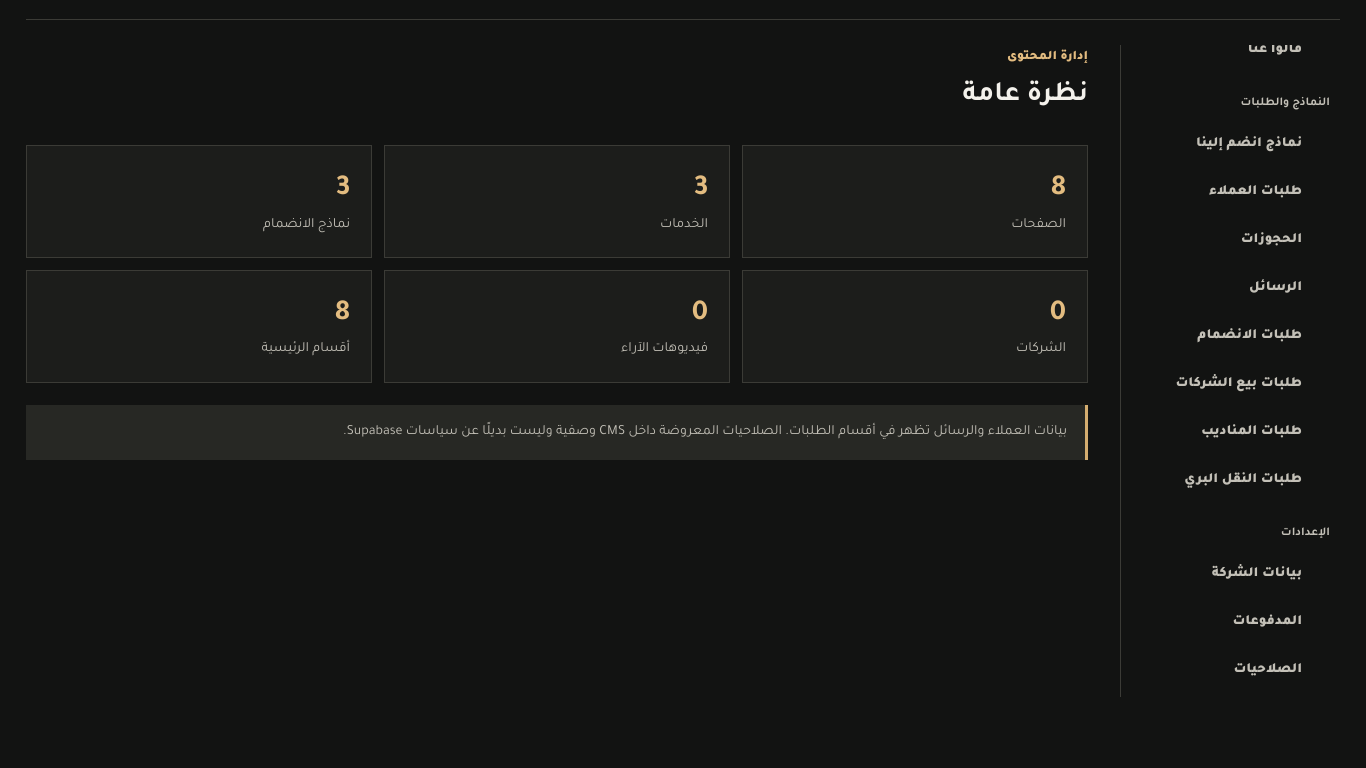
it: form submissions in the dashboard › shows a missing-table error instead of an empty request list and keeps service requests usable
(page scrolled)
Click the button "طلبات بيع الشركات".
click(1239, 384)  # box 1138,362 -> 1340,406
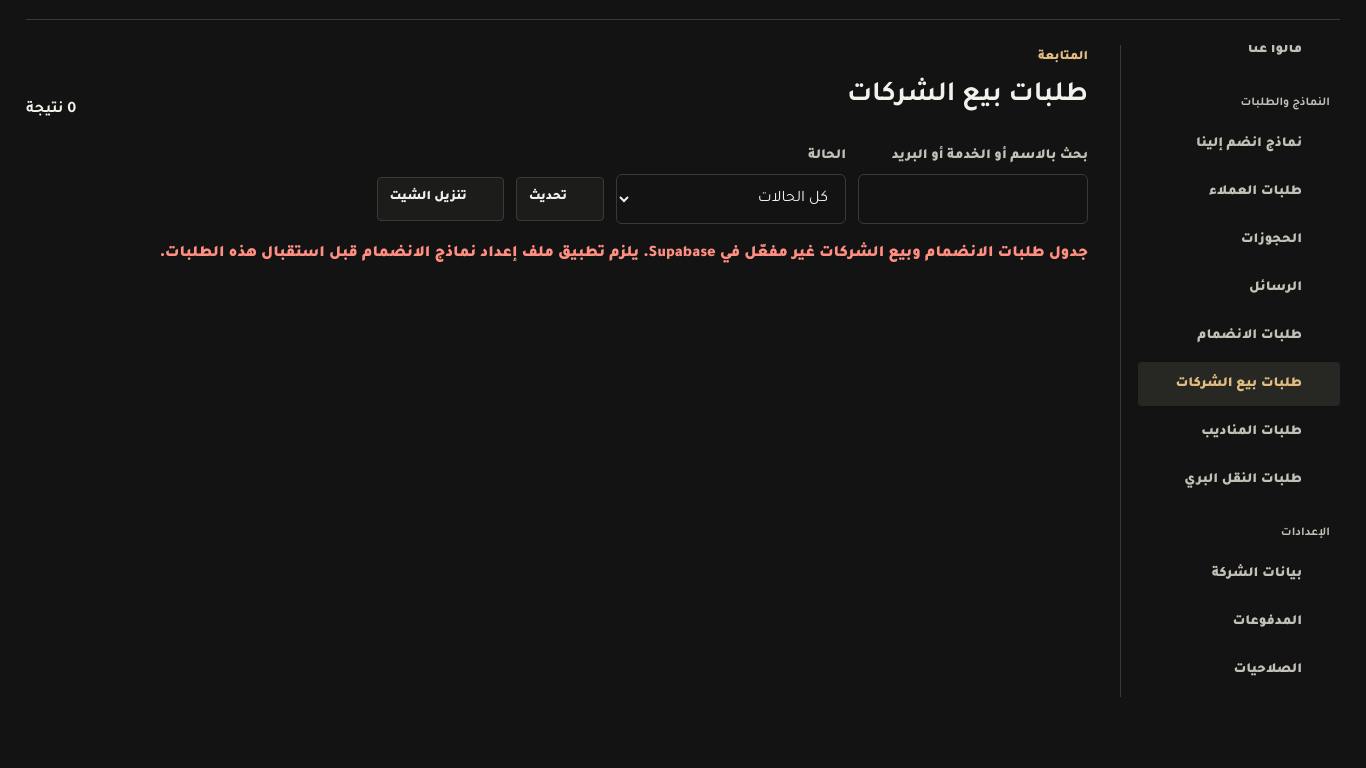
Check: the message shows "غير مفعّل", box 160,246 -> 1088,262
Click the button "طلبات العملاء".
click(1239, 192)  # box 1138,170 -> 1340,214
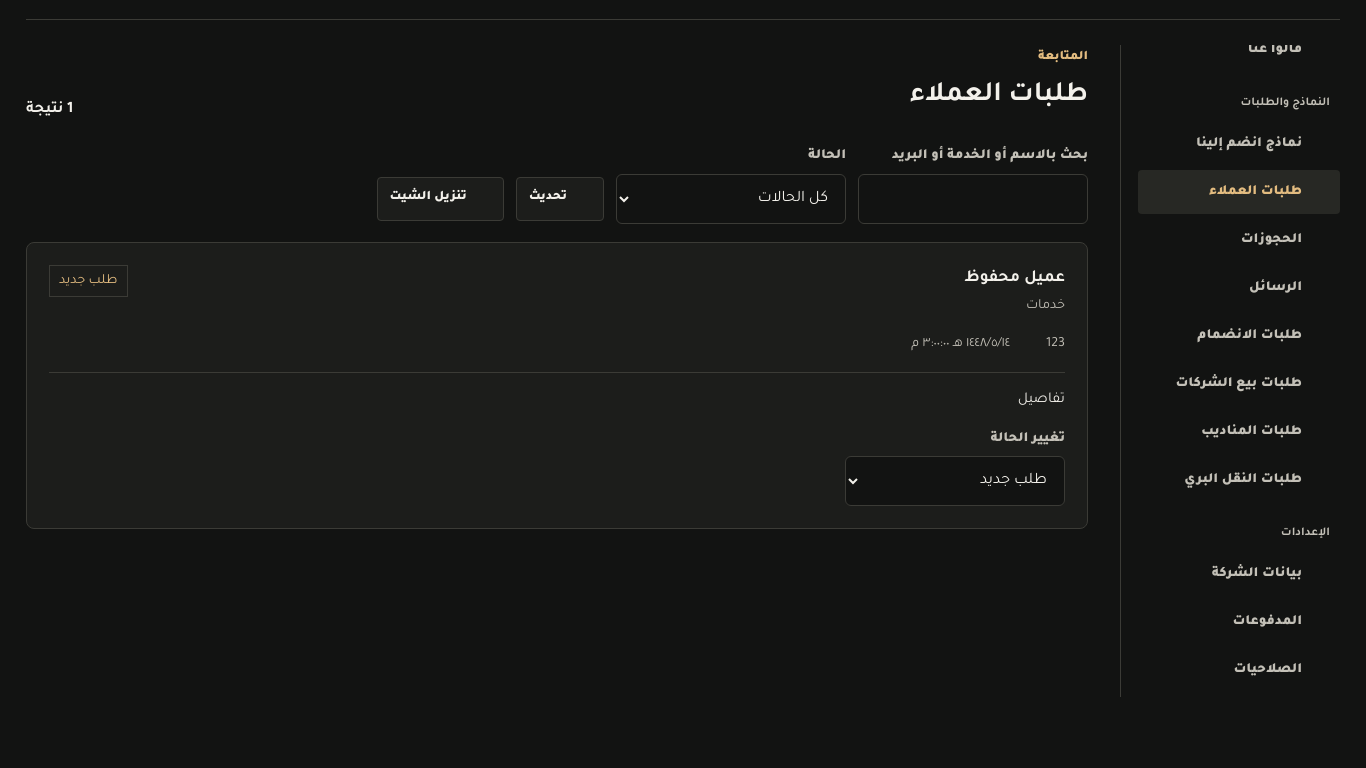
Check: the text "عميل محفوظ" is shown, box 964,265 -> 1065,292
